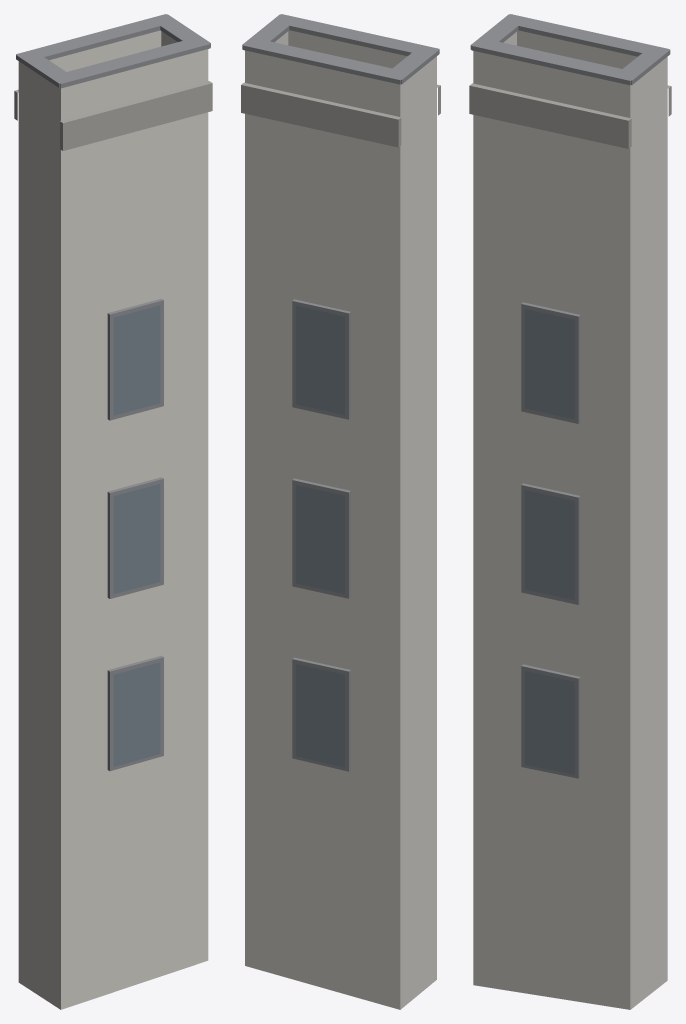
Rendered from d12-bldg-cee7364f-fill.glb.
3 views of the same model, side by side, from view 1: azimuth 30°, elevation 25°; view 2: azimuth 150°, elevation 25°; view 3: azimuth 330°, elevation 25° (orthographic).
Parts seen in each view (by area): view 1: INFERRED_facade.001; view 2: INFERRED_facade.001; view 3: INFERRED_facade.001.
Boxes of the visible parts, left/top/right/bottom form: INFERRED_facade.001: left=14, top=14, right=212, bottom=1009; INFERRED_facade.001: left=241, top=14, right=440, bottom=1009; INFERRED_facade.001: left=469, top=14, right=671, bottom=1009.
Size of the model in its own units: 2.97 by 16.63 by 1.6.
Materials: 1 (1 with a texture image).
